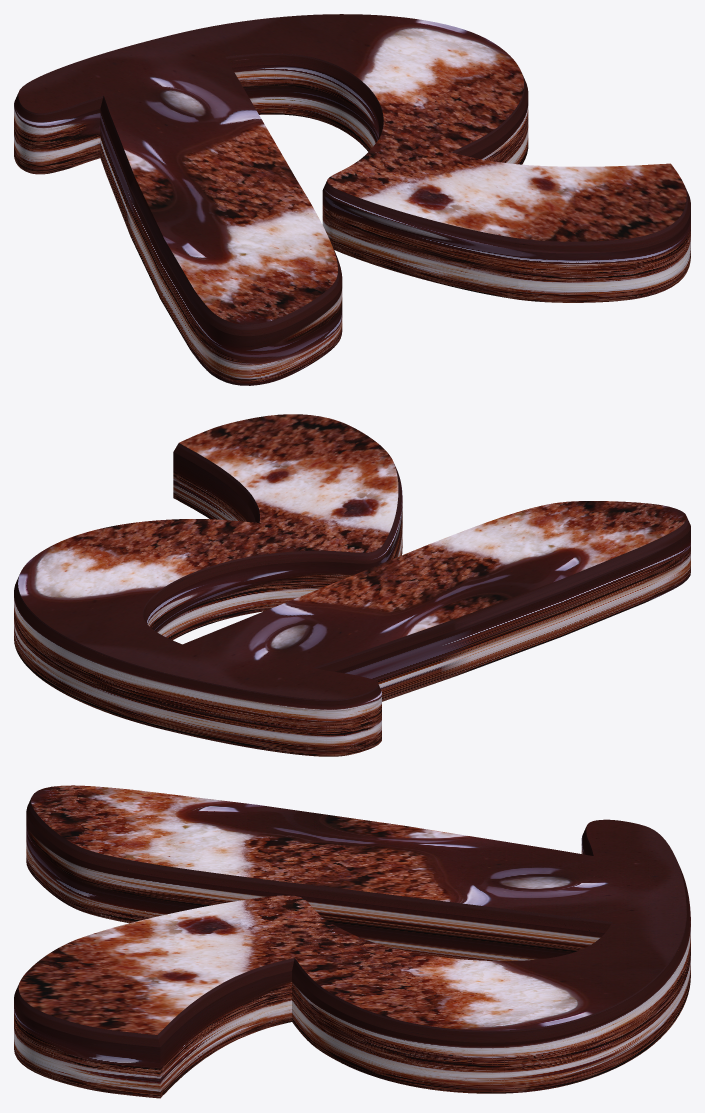
The model's file is myR.FBX.
3 views of the same model, one above another, from view 1: azimuth 30°, elevation 25°; view 2: azimuth 150°, elevation 25°; view 3: azimuth 270°, elevation 25° (orthographic). The views are drawn at different scales.
Visible parts, largest first — view 1: myB; view 2: myB; view 3: myB.
Boxes of the visible parts, x1,y1,x2,y2 form: myB: (14, 14, 690, 385); myB: (14, 414, 690, 756); myB: (14, 785, 690, 1098).
Size of the model in its own units: 53.3 by 6 by 60.1.
Materials: 1 (1 with a texture image).
